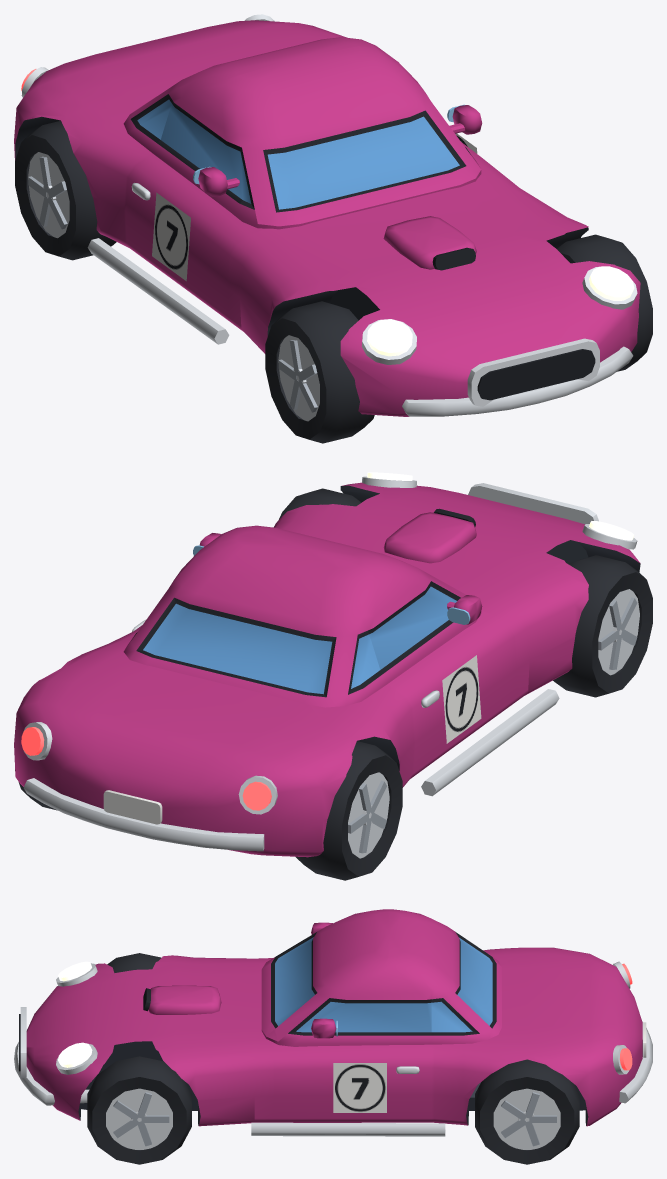
The model's file is carro_corrida_magenta.glb.
The picture shows the model from 3 angles, top to bottom: view 1: azimuth 30°, elevation 25°; view 2: azimuth 150°, elevation 25°; view 3: azimuth 270°, elevation 25°; orthographic projection. The views are drawn at different scales.
Parts seen in each view (by area): view 1: carro_corrida_magenta, porta_dianteira_esq, roda_dianteira_esq, roda_traseira_esq, roda_dianteira_dir; view 2: carro_corrida_magenta, porta_dianteira_esq, roda_dianteira_esq, roda_traseira_esq, roda_dianteira_dir; view 3: carro_corrida_magenta, porta_dianteira_dir, roda_dianteira_dir, roda_traseira_dir, roda_dianteira_esq.
Part boxes in pixels (x1,y1,x2,y2): carro_corrida_magenta: (14,14,640,416); porta_dianteira_esq: (125,100,265,317); roda_dianteira_esq: (265,301,374,443); roda_traseira_esq: (15,120,116,260); roda_dianteira_dir: (556,234,652,371); carro_corrida_magenta: (14,472,640,857); porta_dianteira_esq: (368,581,517,772); roda_dianteira_esq: (553,555,652,697); roda_traseira_esq: (295,741,402,880); roda_dianteira_dir: (279,488,361,519); carro_corrida_magenta: (14,909,652,1136); porta_dianteira_dir: (273,998,431,1118); roda_dianteira_dir: (87,1056,191,1164); roda_traseira_dir: (475,1059,579,1164); roda_dianteira_esq: (107,953,161,972).
Bounding box in the file's own units: 2.09 × 1.3 × 4.29.
Materials: 5 (2 with a texture image).
